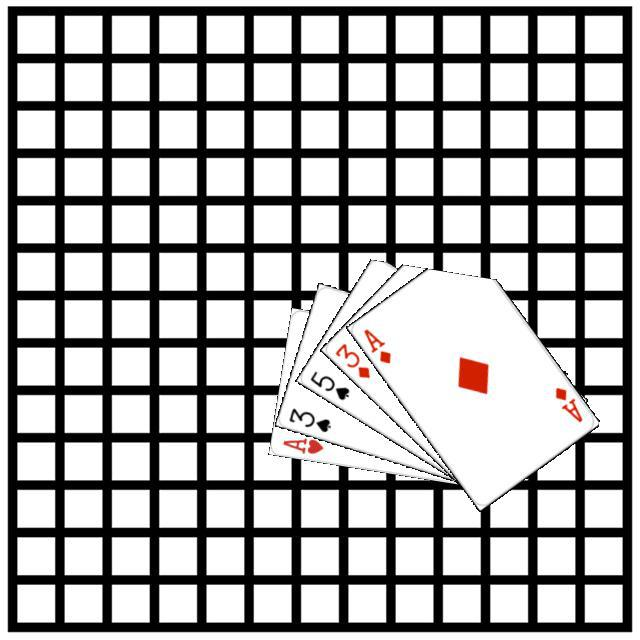3d: (330, 338, 372, 380)
3s: (284, 403, 333, 434)
5s: (305, 366, 351, 402)
Ad: (358, 324, 393, 365), (550, 382, 584, 424)
Ah: (278, 433, 325, 456)
